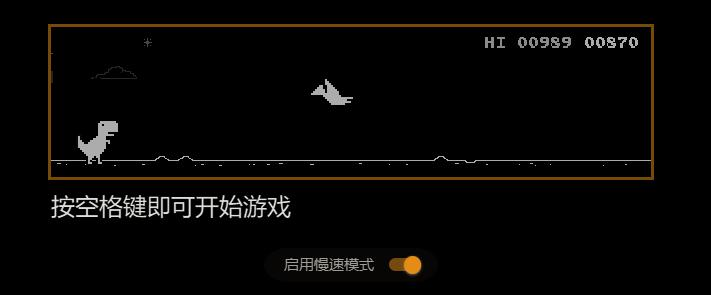bird: (310, 77, 354, 105)
dino: (75, 120, 120, 165)
